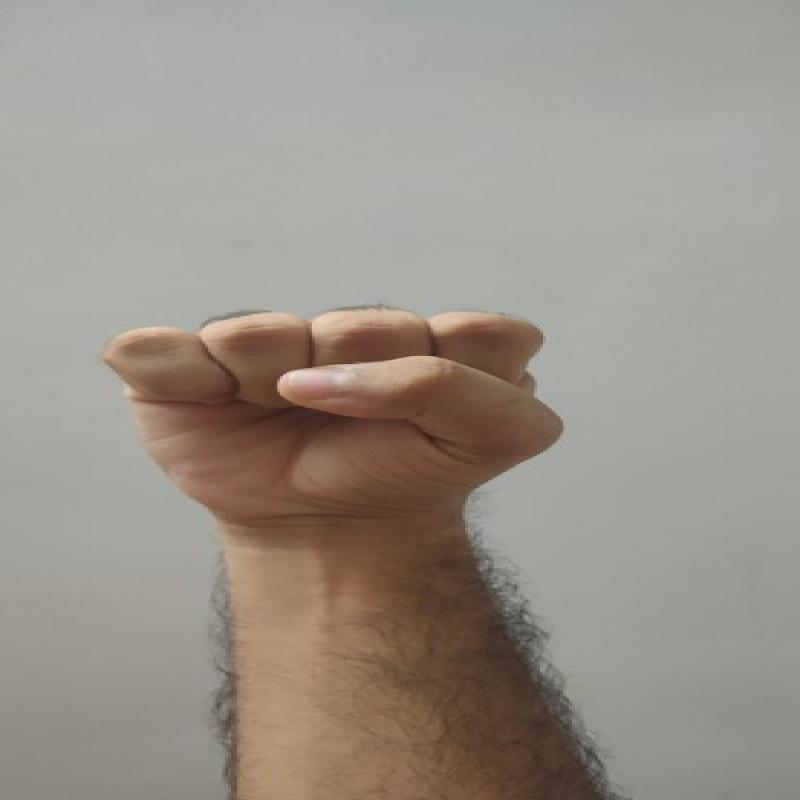Mushti: (74, 291, 582, 538)
